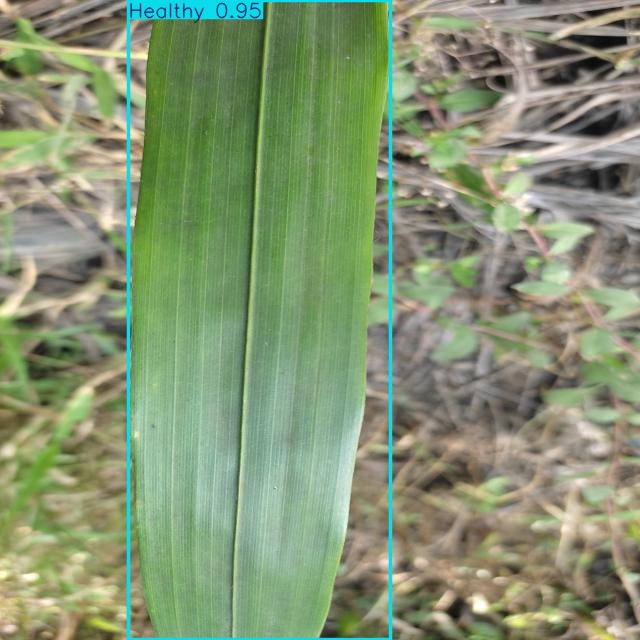Healthy: (128, 0, 391, 640)
